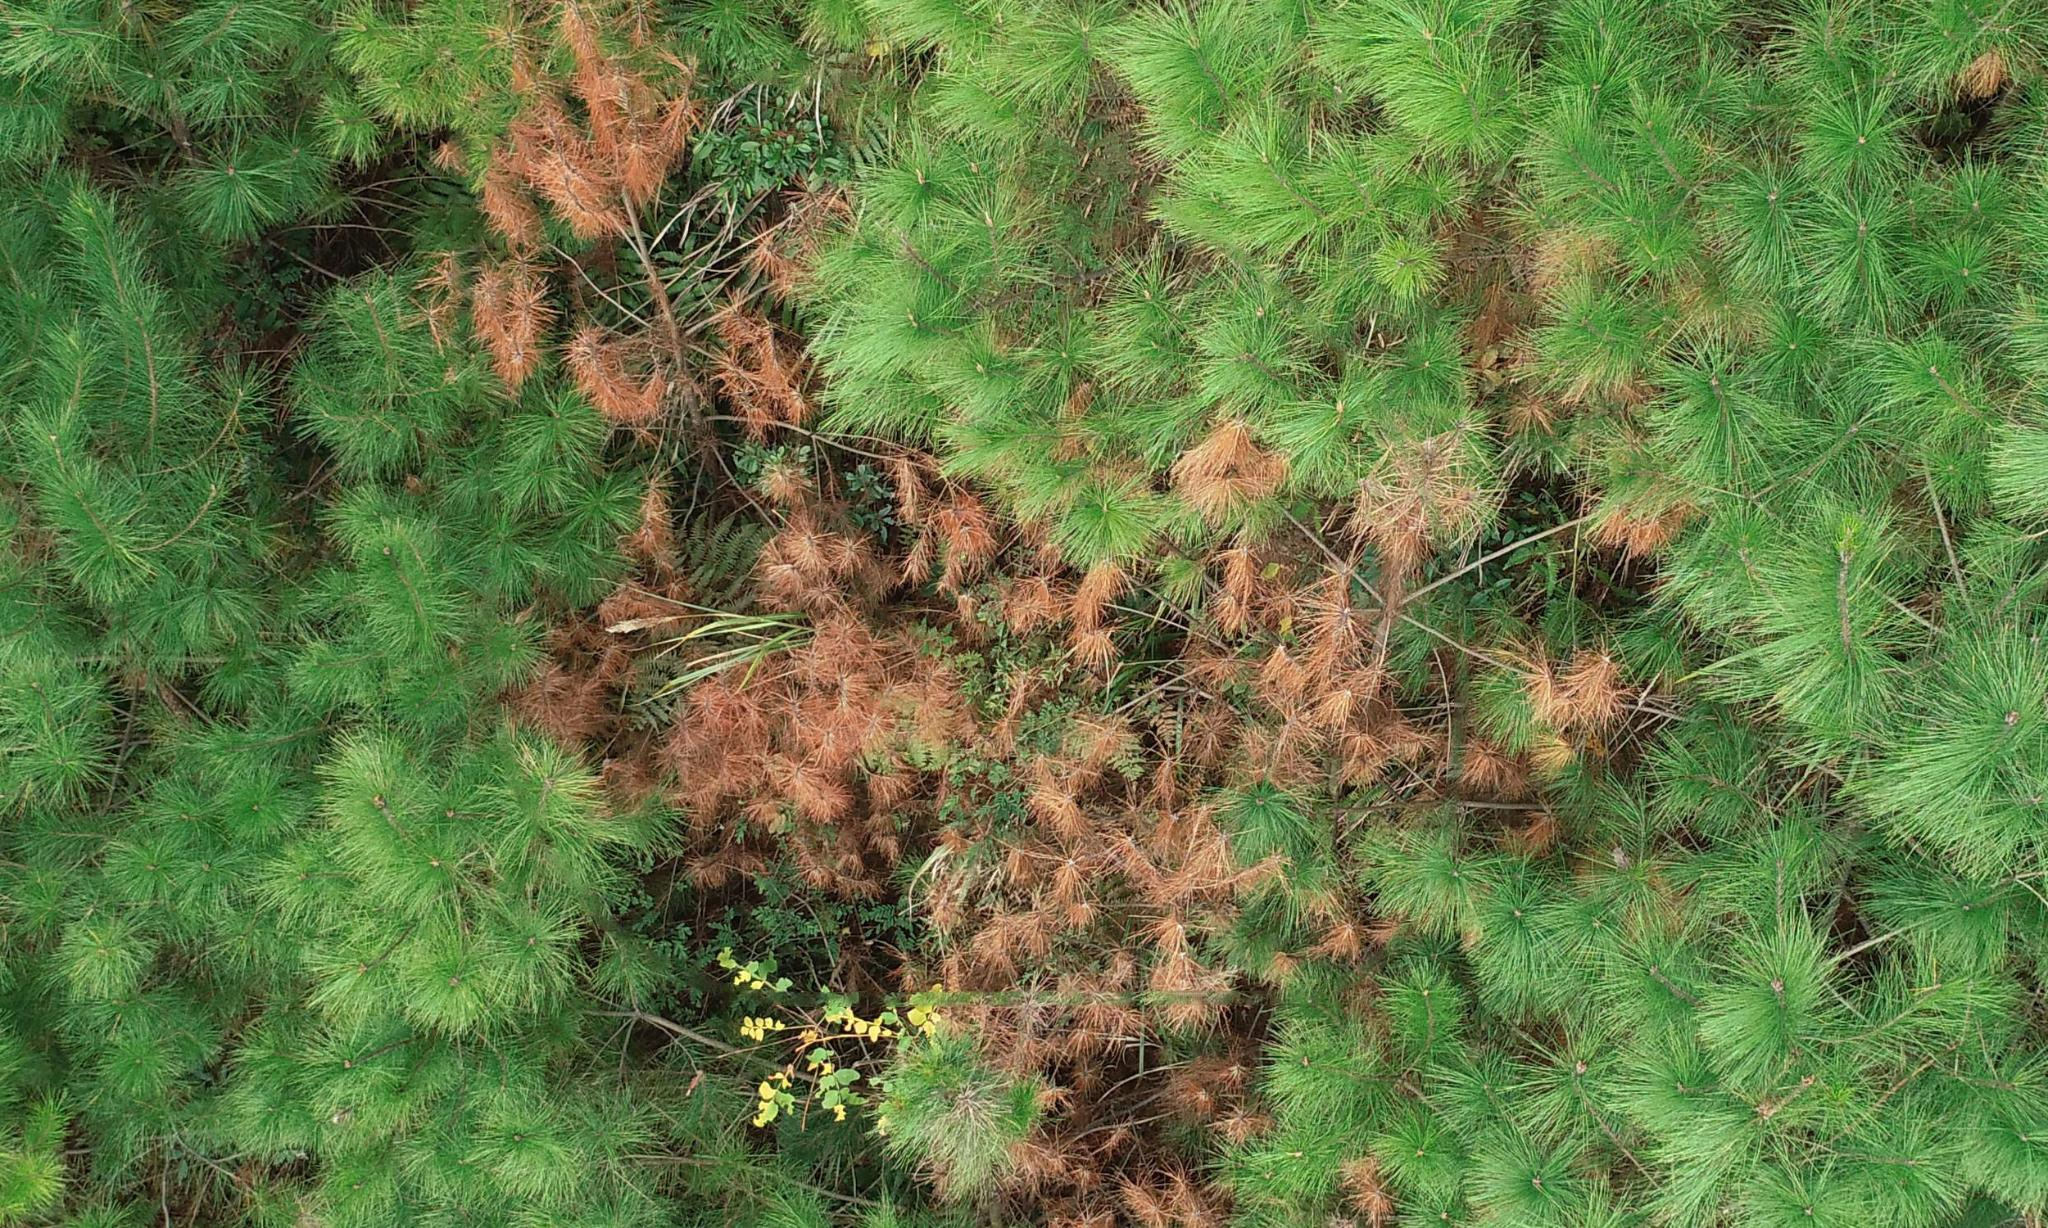heavy: (458, 4, 1680, 1174)
